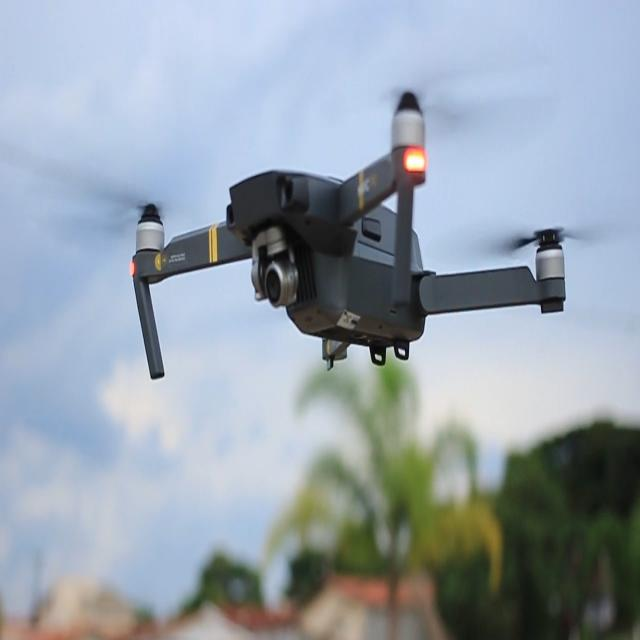Drone: (130, 92, 567, 381)
